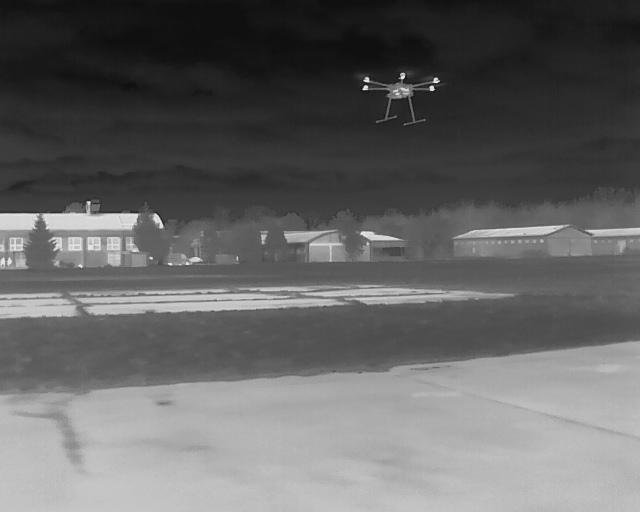drone: (348, 70, 445, 136)
